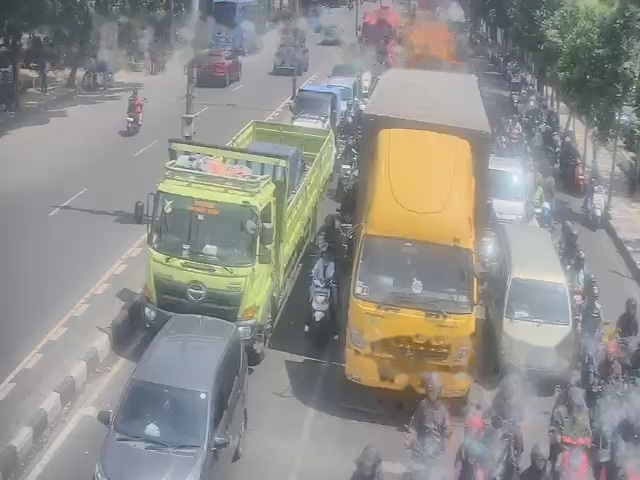Mobil: (94, 315, 248, 479), (486, 224, 579, 389), (489, 155, 529, 222), (272, 29, 307, 77)
Motor: (407, 373, 452, 479), (325, 205, 353, 265), (557, 437, 590, 479), (306, 275, 326, 337), (337, 147, 358, 201), (563, 150, 583, 194), (126, 96, 145, 135), (586, 192, 604, 222), (534, 199, 550, 226)
Truk: (344, 68, 489, 403), (142, 121, 337, 363)
